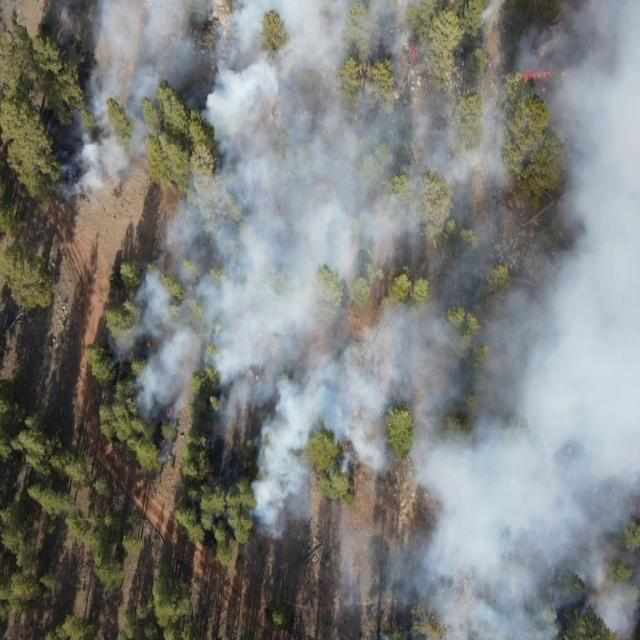fire: (518, 66, 554, 96), (406, 38, 419, 64), (532, 47, 546, 67), (555, 70, 568, 86), (145, 338, 155, 351), (114, 185, 122, 199), (165, 405, 176, 415), (74, 188, 85, 198)
smoke: (164, 203, 640, 471), (45, 0, 640, 202), (405, 471, 561, 640), (561, 472, 640, 606), (313, 516, 405, 626), (122, 270, 164, 425), (253, 472, 314, 538), (599, 605, 640, 640), (104, 326, 122, 365)
